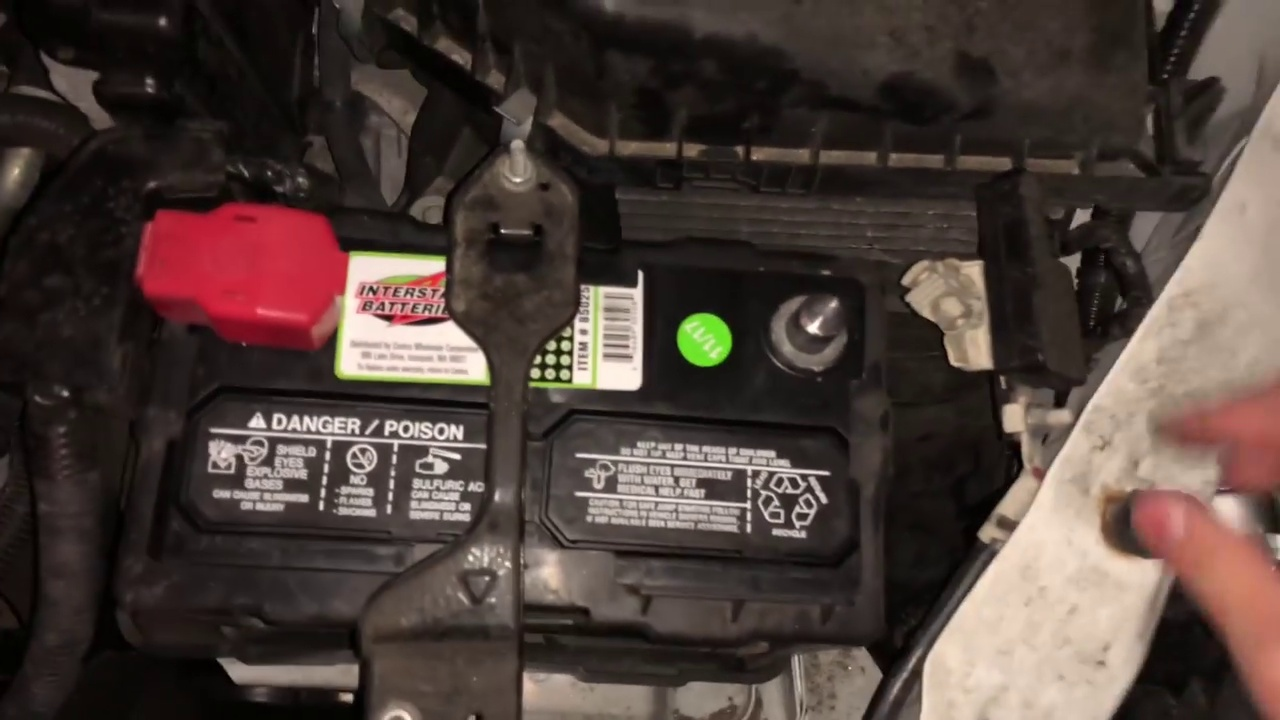battery: (135, 205, 870, 608)
neg_disconnected: (729, 261, 882, 403)
pos_connected: (93, 187, 357, 355)
